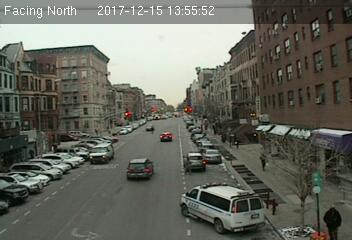car: (126, 160, 154, 178), (184, 153, 205, 170), (203, 149, 222, 164), (159, 131, 172, 143)
pedestrian: (322, 201, 345, 240), (257, 154, 269, 175)
police: (177, 181, 267, 233)
truck: (89, 143, 115, 165)
